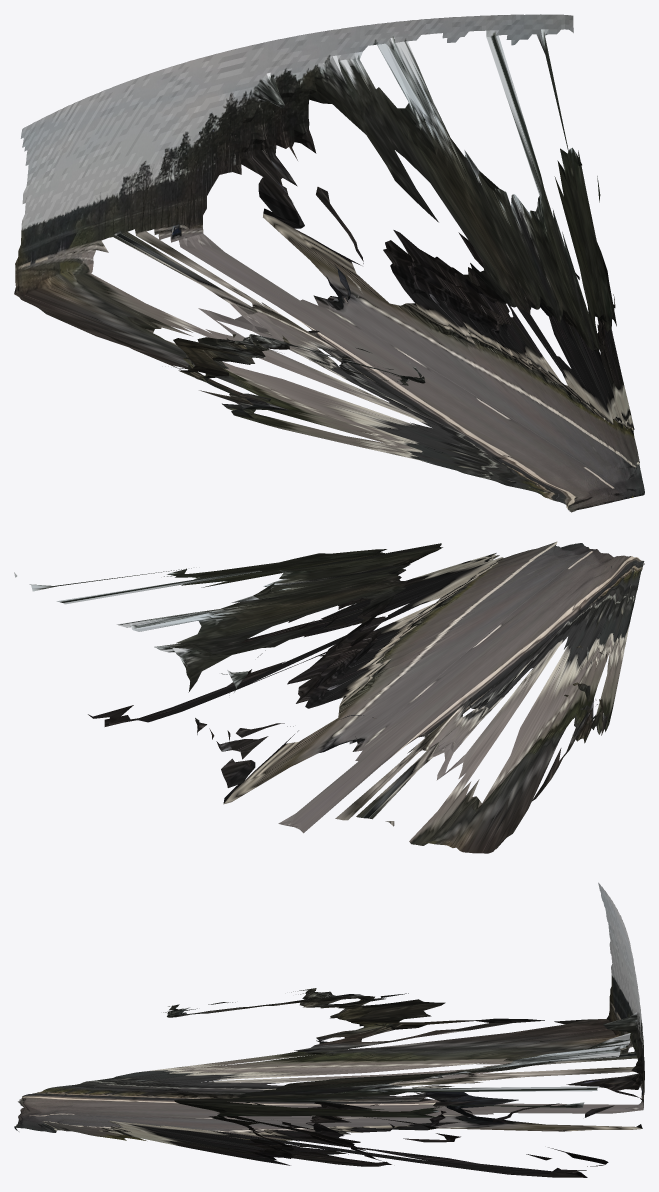
3 views of the same model, one above another, from view 1: azimuth 30°, elevation 25°; view 2: azimuth 150°, elevation 25°; view 3: azimuth 270°, elevation 25° (orthographic). The views are drawn at different scales.
Visible parts, largest first — view 1: defaultobject; view 2: defaultobject; view 3: defaultobject.
Boxes of the visible parts, x1,y1,x2,y2 form: defaultobject: (14,14,644,512); defaultobject: (14,541,644,853); defaultobject: (14,882,644,1177).
Bounding box in the file's own units: 36.05 × 12.15 × 44.55.
Materials: 1 (1 with a texture image).
